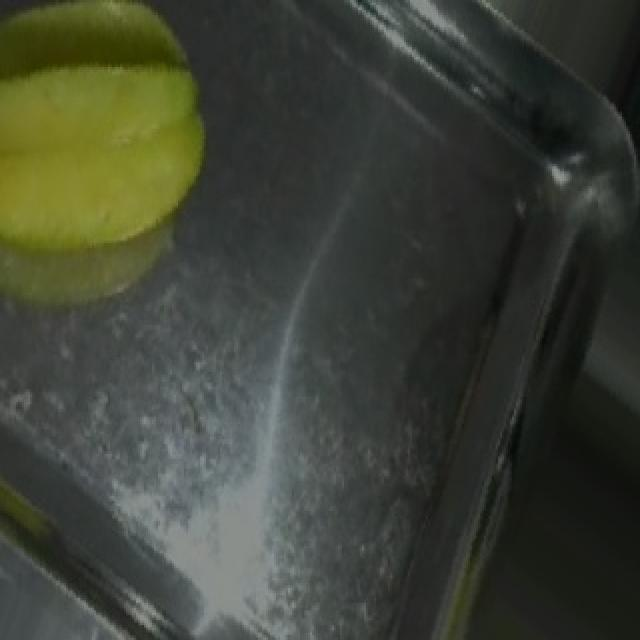fruit: (0, 0, 256, 310)
